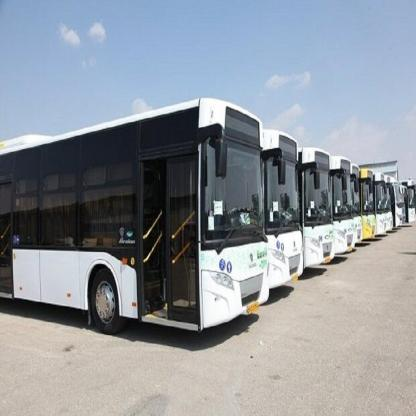Bus: (0, 94, 271, 346), (260, 119, 304, 305), (301, 140, 337, 278), (332, 152, 361, 270), (360, 162, 382, 250), (373, 165, 392, 236), (395, 187, 405, 232)
